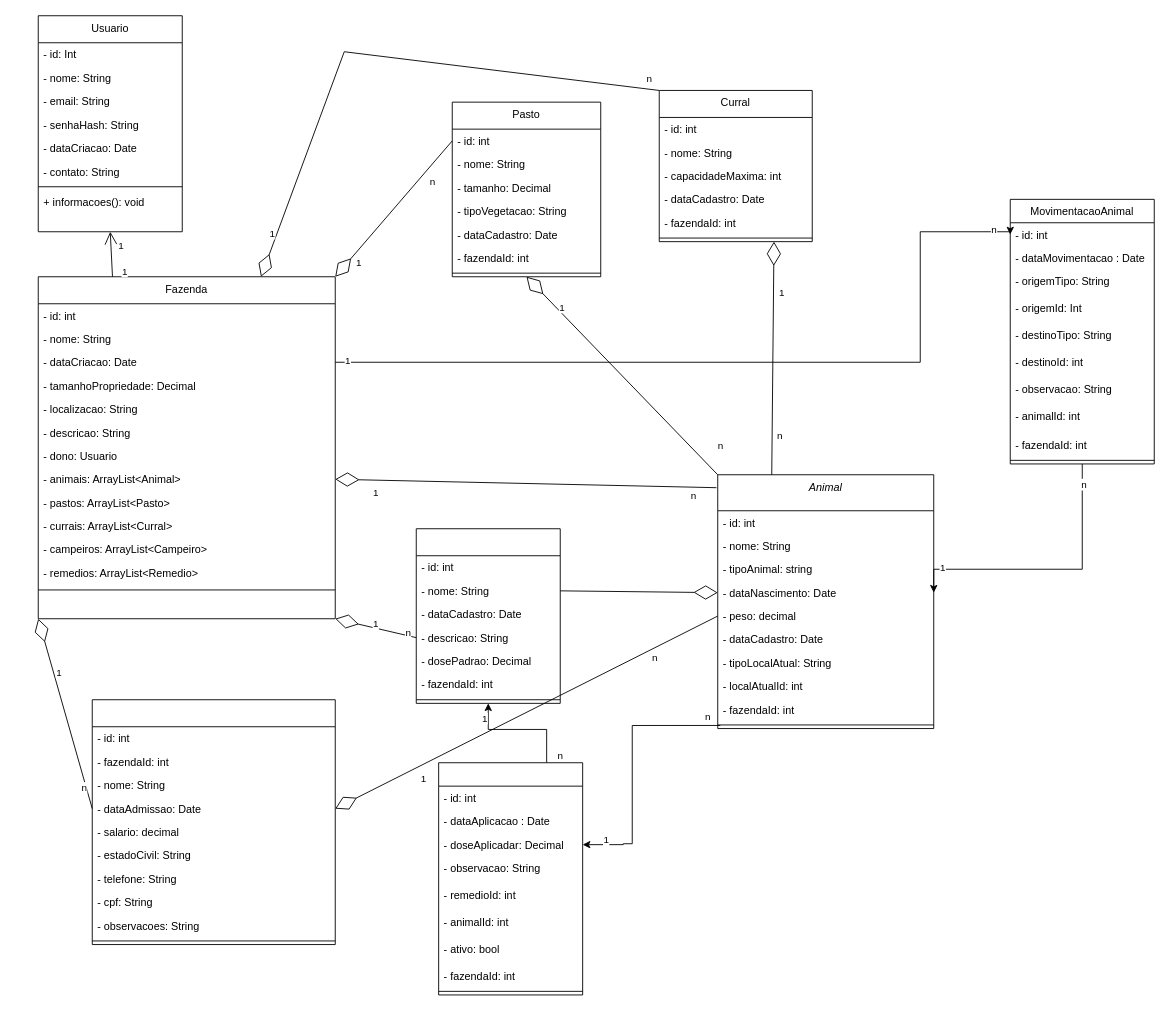
The diagram is 1170 pixels wide and 1011 high, and some of its shapes have lost their labels. The shapes that lost their labels are listed below. From the top down, each one's box as (x1, y1, x2, y2) in pixels, then its label:
(415, 528, 560, 703): Remedio
(91, 699, 335, 945): Campeiro
(438, 762, 583, 995): AplicaçãoRemedio
